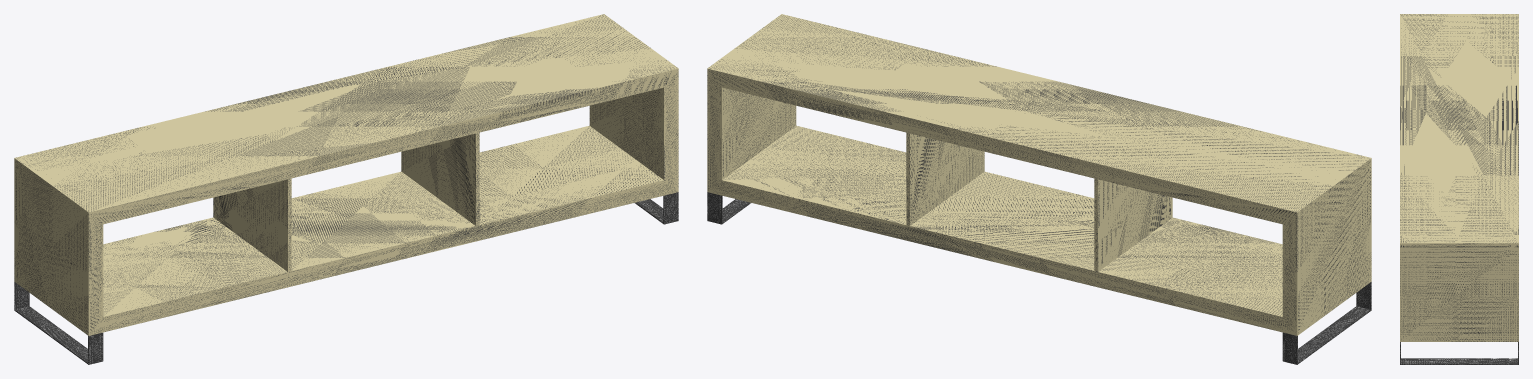
3 views of the same model, side by side, from view 1: azimuth 30°, elevation 25°; view 2: azimuth 150°, elevation 25°; view 3: azimuth 270°, elevation 25° (orthographic). The views are drawn at different scales.
Parts seen in each view (by area): view 1: mesh1_mesh1-geometry, mesh2_mesh2-geometry; view 2: mesh1_mesh1-geometry, mesh2_mesh2-geometry; view 3: mesh1_mesh1-geometry, mesh2_mesh2-geometry.
Boxes of the visible parts, x1,y1,x2,y2 form: mesh1_mesh1-geometry: (14,14,678,335); mesh2_mesh2-geometry: (14,192,678,364); mesh1_mesh1-geometry: (707,14,1371,335); mesh2_mesh2-geometry: (707,192,1371,364); mesh1_mesh1-geometry: (1400,14,1518,341); mesh2_mesh2-geometry: (1400,342,1518,364).
Size of the model in its own units: 0.9497 by 0.2344 by 0.2077.
